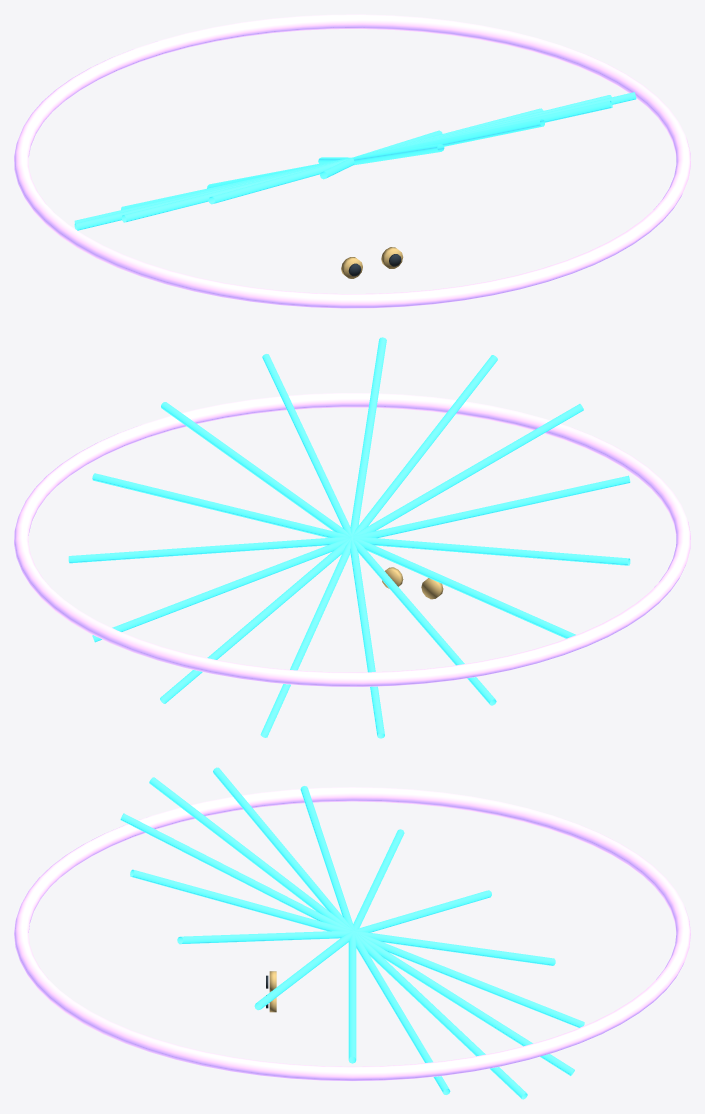
File: 91_L90_PlasmaFieldVectorHologram.fbx
The picture shows the model from 3 angles, top to bottom: view 1: azimuth 30°, elevation 25°; view 2: azimuth 150°, elevation 25°; view 3: azimuth 270°, elevation 25°; orthographic projection.
Visible parts, largest first — view 1: L90_PlasmaFieldVectorHologram_Part_0000, L90_PlasmaFieldVectorHologram_Part_0001; view 2: L90_PlasmaFieldVectorHologram_Part_0001, L90_PlasmaFieldVectorHologram_Part_0000; view 3: L90_PlasmaFieldVectorHologram_Part_0000, L90_PlasmaFieldVectorHologram_Part_0001.
Part boxes in pixels (bbox=[...]): L90_PlasmaFieldVectorHologram_Part_0000: bbox=[14, 14, 690, 308]; L90_PlasmaFieldVectorHologram_Part_0001: bbox=[74, 92, 636, 230]; L90_PlasmaFieldVectorHologram_Part_0001: bbox=[68, 337, 630, 738]; L90_PlasmaFieldVectorHologram_Part_0000: bbox=[14, 393, 690, 686]; L90_PlasmaFieldVectorHologram_Part_0000: bbox=[14, 787, 690, 1081]; L90_PlasmaFieldVectorHologram_Part_0001: bbox=[120, 767, 584, 1099].
Bounding box in the file's own units: 4.09 × 1.44 × 4.09.
